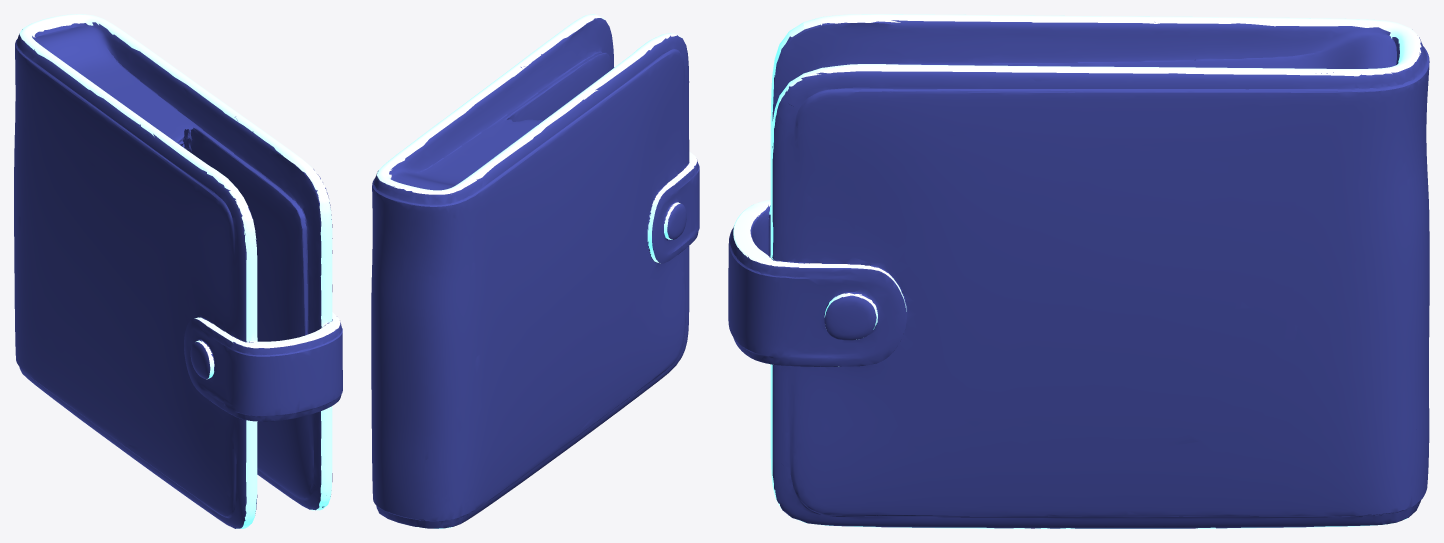
File: wallet.glb
The picture shows the model from 3 angles, left to right: view 1: azimuth 30°, elevation 25°; view 2: azimuth 150°, elevation 25°; view 3: azimuth 270°, elevation 25°; orthographic projection. The views are drawn at different scales.
Visible parts, largest first — view 1: model; view 2: model; view 3: model.
Boxes of the visible parts, x1,y1,x2,y2 form: model: [14, 14, 342, 528]; model: [371, 14, 699, 528]; model: [728, 14, 1429, 528].
Bounding box in the file's own units: 0.5212 × 1.38 × 1.9.
